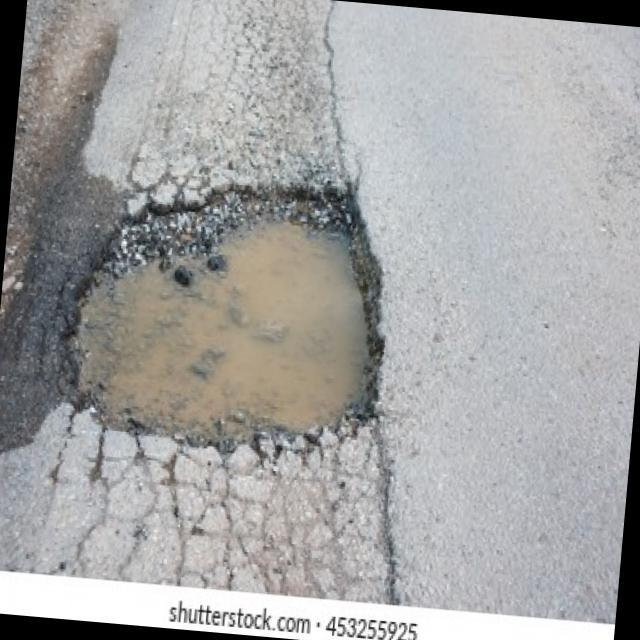Pothole: (55, 154, 400, 463)
